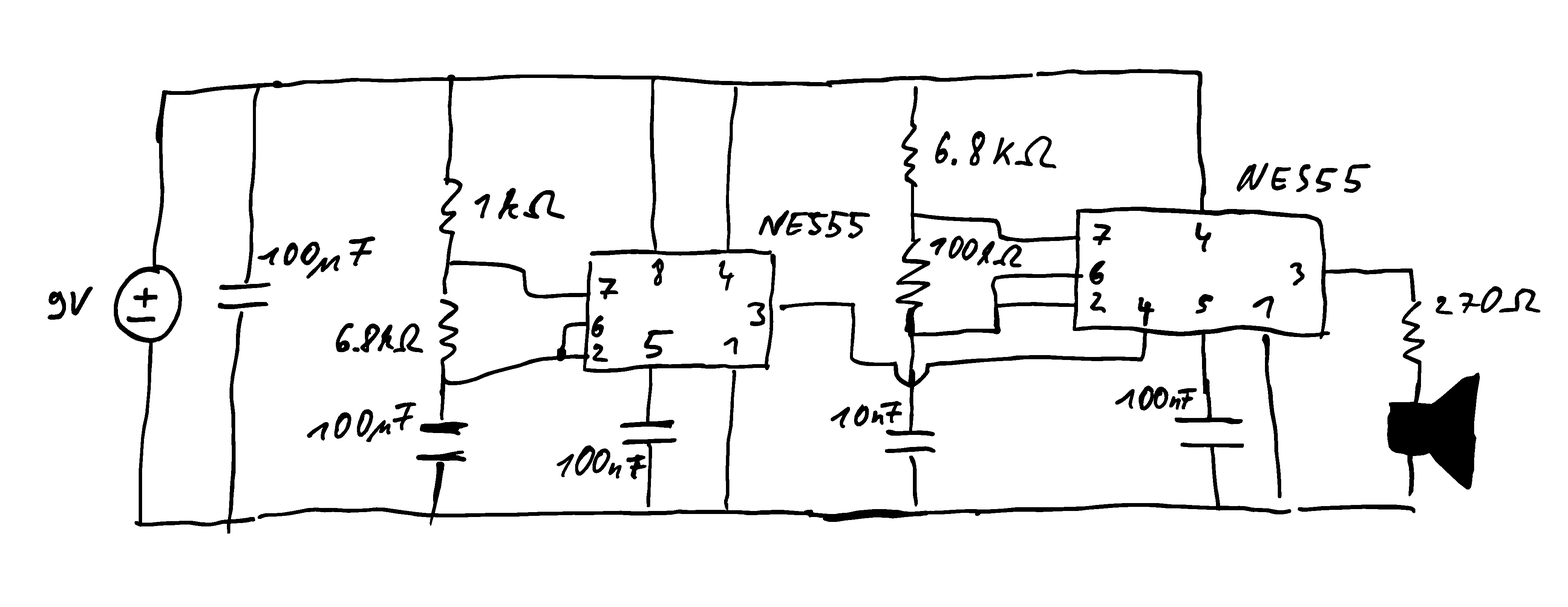capacitor.unpolarized: (1168, 414, 1251, 456), (414, 418, 474, 469), (613, 416, 686, 451), (214, 280, 276, 316), (879, 426, 943, 458)
crossover: (887, 355, 937, 390)
integrated_circuit.ne555: (1070, 202, 1334, 340), (580, 242, 780, 378)
junction: (1265, 477, 1302, 521), (414, 495, 450, 538), (213, 506, 251, 543), (1394, 480, 1429, 520), (122, 505, 159, 541), (902, 491, 936, 528), (712, 489, 746, 526), (1201, 486, 1235, 522), (900, 69, 934, 101), (636, 490, 665, 527), (1398, 257, 1426, 288), (897, 323, 931, 348), (548, 343, 576, 372), (901, 203, 929, 230), (984, 294, 1015, 318), (245, 72, 270, 101), (1185, 61, 1210, 90), (725, 74, 750, 102), (841, 293, 866, 320), (985, 319, 1012, 344), (642, 67, 665, 96), (840, 348, 867, 372), (440, 70, 465, 91), (433, 372, 458, 393), (982, 212, 1011, 230), (439, 253, 464, 273), (986, 268, 1007, 290), (156, 85, 176, 106), (1131, 349, 1152, 369), (511, 260, 533, 279), (517, 282, 536, 303), (559, 316, 578, 337), (993, 231, 1012, 245)
resistor: (894, 229, 935, 321), (1396, 293, 1433, 375), (436, 166, 470, 250), (429, 296, 465, 369), (898, 116, 926, 196)
speaker: (1376, 370, 1489, 493)
text: (929, 126, 1059, 173), (299, 399, 421, 444), (258, 235, 377, 278), (1430, 280, 1545, 322), (1235, 160, 1372, 195), (756, 206, 873, 244), (329, 318, 426, 360), (553, 442, 647, 485), (473, 185, 568, 226), (930, 233, 1026, 272), (1115, 384, 1200, 420), (827, 399, 907, 433), (45, 283, 97, 323), (643, 328, 674, 360), (1191, 221, 1215, 253), (1135, 295, 1158, 326), (1251, 291, 1273, 322), (1092, 221, 1113, 248), (596, 277, 620, 300), (1288, 260, 1306, 290), (746, 299, 766, 326), (718, 258, 735, 289), (1194, 292, 1214, 316), (650, 258, 666, 287), (1088, 260, 1107, 284), (1087, 290, 1107, 312), (590, 343, 609, 364), (721, 336, 740, 356), (591, 314, 605, 340)
voltage.dc: (110, 263, 184, 345)
